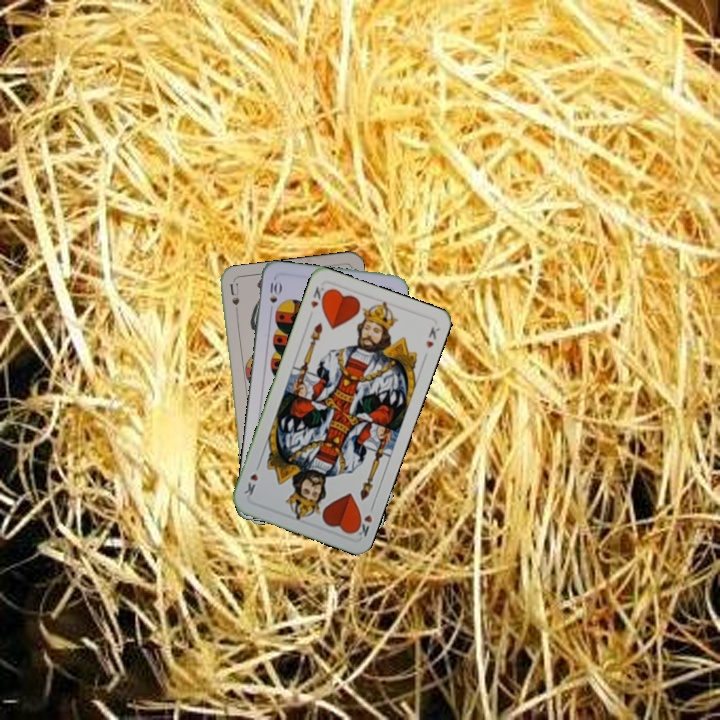HK: (350, 500, 377, 540), (307, 282, 323, 310)
S10: (266, 278, 283, 316)
SU: (226, 280, 242, 321)
